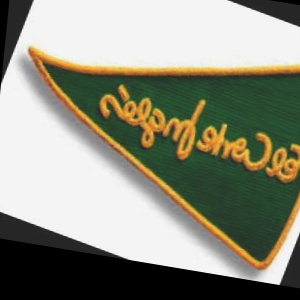corte_ingles: (230, 75, 300, 191)
